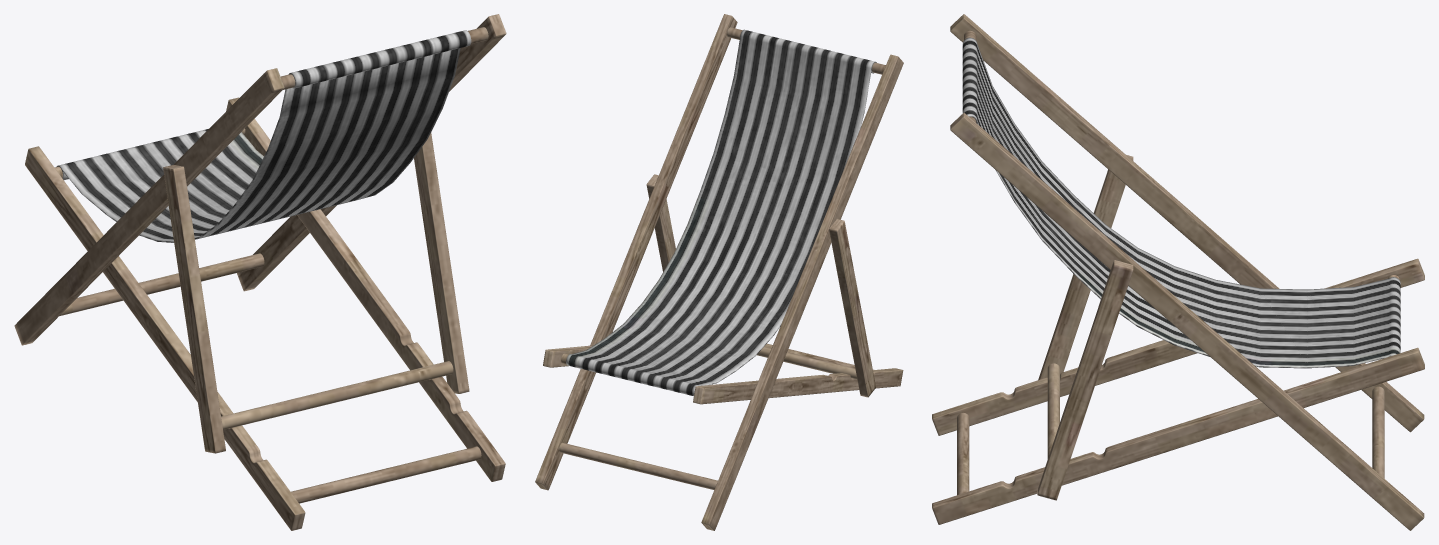
The model's file is Chair47.glb.
3 renders of one model, left to right at view 1: azimuth 30°, elevation 25°; view 2: azimuth 150°, elevation 25°; view 3: azimuth 270°, elevation 25°, orthographic. The views are drawn at different scales.
Parts seen in each view (by area): view 1: Chair47_model; view 2: Chair47_model; view 3: Chair47_model.
Boxes of the visible parts, bbox=[...] form: Chair47_model: bbox=[14, 14, 506, 530]; Chair47_model: bbox=[535, 14, 903, 530]; Chair47_model: bbox=[932, 14, 1424, 530].
Bounding box in the file's own units: 1.19 × 2.03 × 2.19.
Materials: 1 (1 with a texture image).
